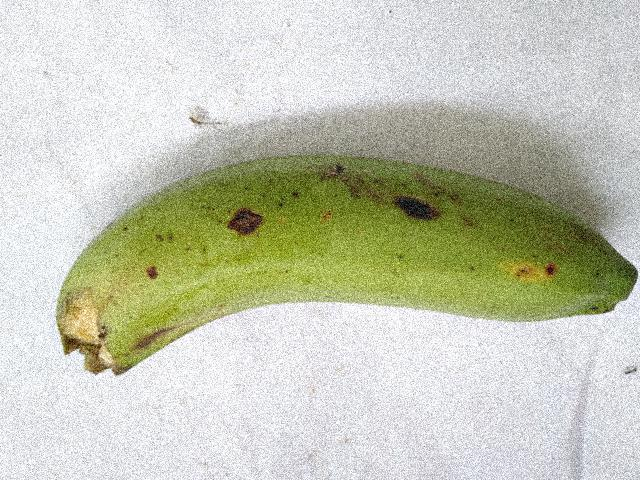rotten: (369, 176, 484, 262), (198, 187, 282, 258)
unripe: (57, 143, 639, 407)
